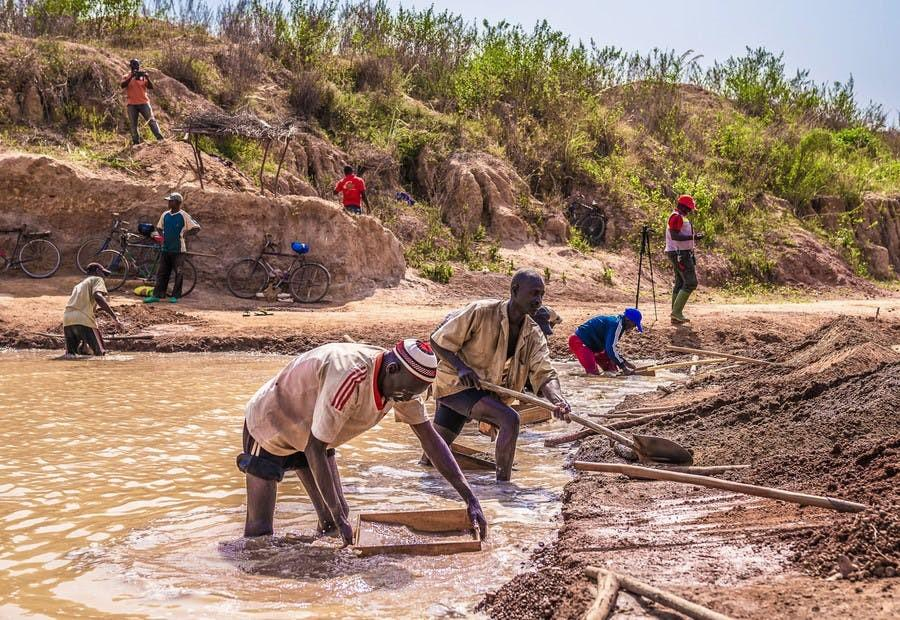MiningTool: (467, 375, 694, 466), (623, 459, 883, 518), (346, 504, 485, 555), (666, 339, 787, 370), (427, 436, 520, 475), (479, 402, 554, 430), (623, 358, 658, 377), (618, 363, 656, 379)
Person: (237, 335, 490, 550), (417, 268, 576, 491), (144, 192, 202, 305), (565, 304, 646, 380), (662, 193, 708, 325), (60, 264, 120, 361), (118, 58, 164, 144), (333, 161, 371, 218), (537, 300, 562, 339)
Structure: (168, 101, 311, 195)
Vehicle: (227, 231, 334, 303), (88, 228, 199, 297), (75, 212, 167, 281), (1, 218, 62, 275), (560, 192, 608, 244)
